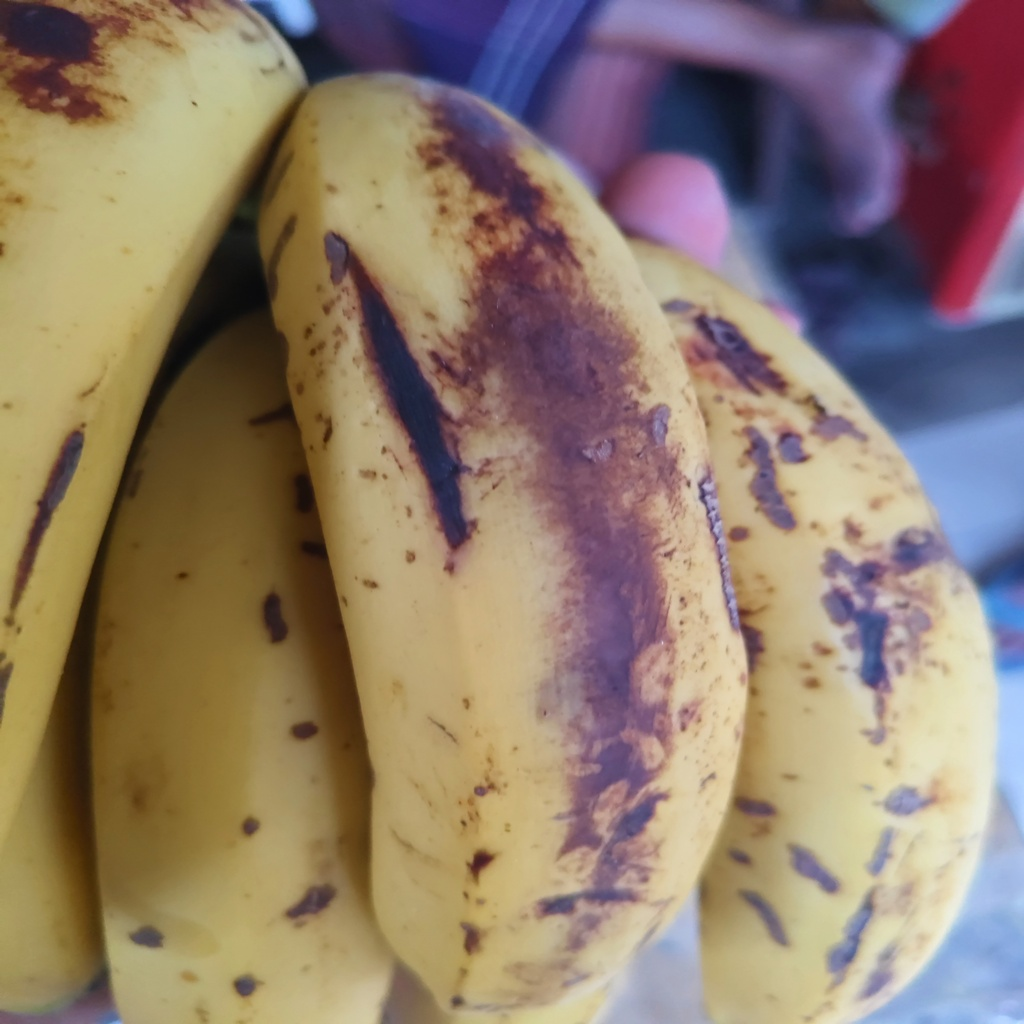unhealthy: (260, 98, 741, 1006), (630, 239, 1000, 1023), (1, 4, 294, 733)
